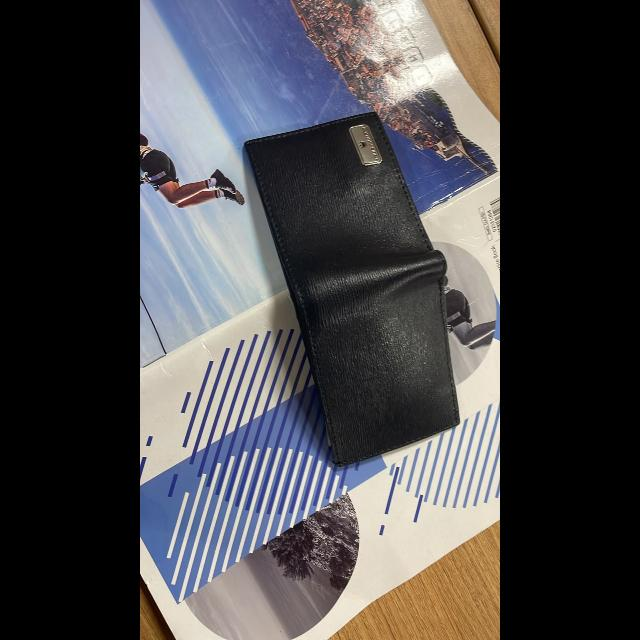wallet: (229, 101, 475, 465)
